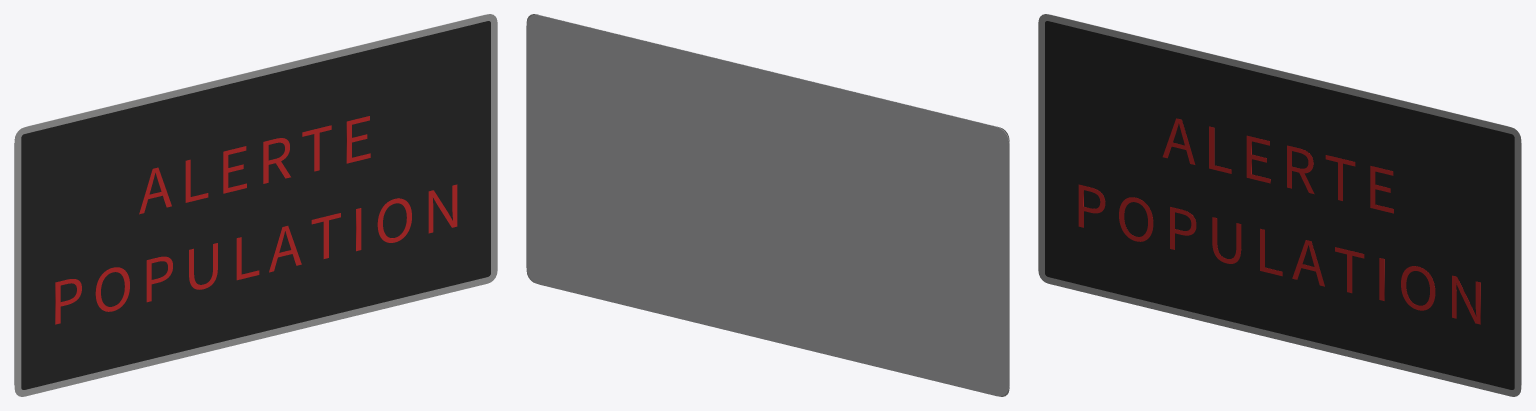
The model's file is ALERTE_POPULATION.glb.
The picture shows the model from 3 angles, left to right: view 1: azimuth 30°, elevation 25°; view 2: azimuth 150°, elevation 25°; view 3: azimuth 330°, elevation 25°; orthographic projection.
Parts seen in each view (by area): view 1: ALERTE_POPULATION_fond01, ALERTE_POPULATION_cadre00, ALERTE_POPULATION_txt03, ALERTE_POPULATION_txt02, ALERTE_POPULATION_dos; view 2: ALERTE_POPULATION_dos; view 3: ALERTE_POPULATION_fond01, ALERTE_POPULATION_cadre00, ALERTE_POPULATION_txt03, ALERTE_POPULATION_txt02, ALERTE_POPULATION_dos.
Part boxes in pixels (box(x1,y1,x2,y2)): ALERTE_POPULATION_fond01: box(21, 21, 490, 389); ALERTE_POPULATION_cadre00: box(14, 14, 497, 396); ALERTE_POPULATION_txt03: box(55, 184, 457, 324); ALERTE_POPULATION_txt02: box(139, 116, 370, 214); ALERTE_POPULATION_dos: box(14, 14, 484, 384); ALERTE_POPULATION_dos: box(526, 14, 1009, 396); ALERTE_POPULATION_fond01: box(1045, 21, 1514, 389); ALERTE_POPULATION_cadre00: box(1038, 14, 1521, 396); ALERTE_POPULATION_txt03: box(1078, 184, 1480, 324); ALERTE_POPULATION_txt02: box(1162, 118, 1393, 213); ALERTE_POPULATION_dos: box(1051, 14, 1521, 384).
Size of the model in its own units: 1.5 by 0.8 by 0.0029.
